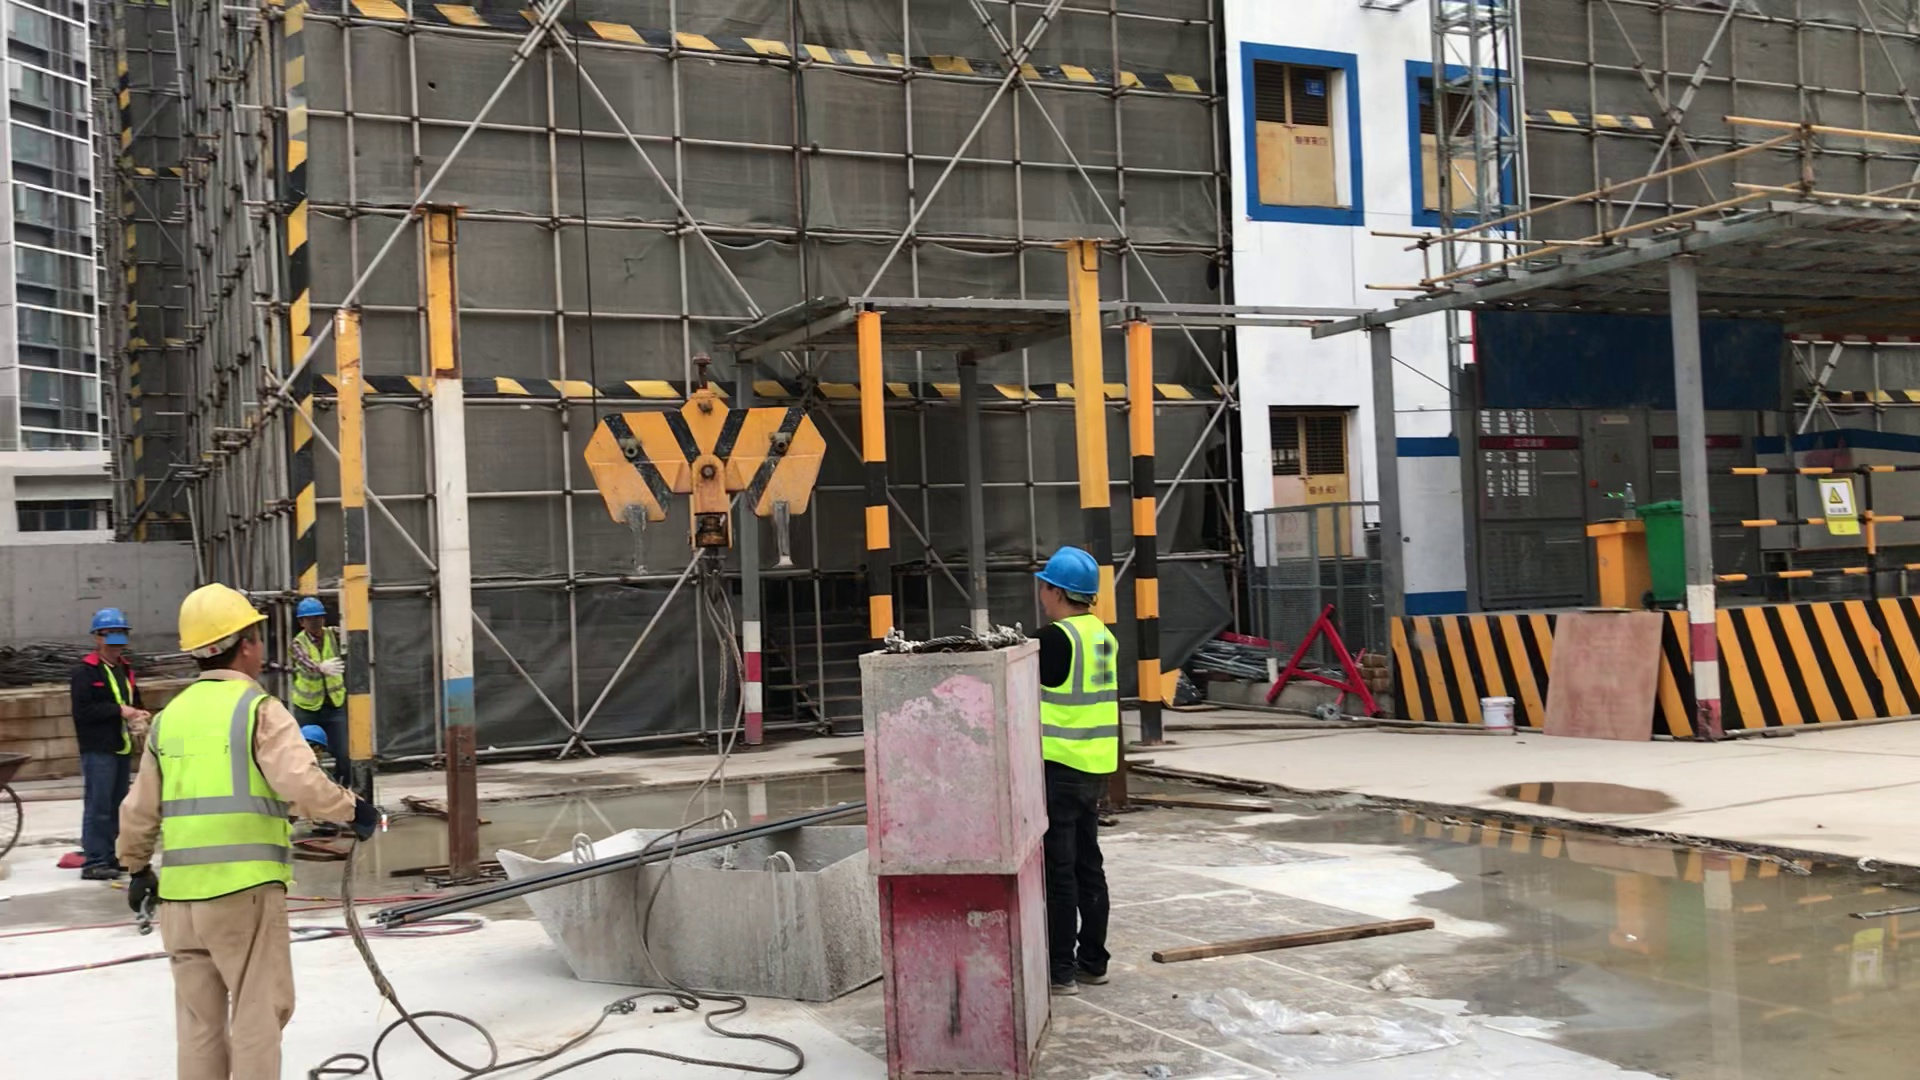fence: (1702, 454, 1920, 606)
handcart: (2, 726, 44, 891)
helmet: (173, 580, 281, 653), (1028, 545, 1113, 604), (78, 603, 144, 638), (292, 591, 342, 631), (296, 711, 336, 756)
hook: (580, 343, 833, 601)
hopper: (481, 805, 888, 1014)
person: (121, 554, 393, 1080), (1012, 523, 1154, 991), (61, 584, 146, 895), (283, 569, 363, 714), (296, 701, 340, 787)
rebar: (369, 865, 669, 934), (599, 826, 837, 876)
slogan: (1798, 462, 1871, 549)
vest: (118, 678, 329, 909), (1033, 603, 1152, 800), (82, 658, 156, 761), (287, 630, 355, 707)
